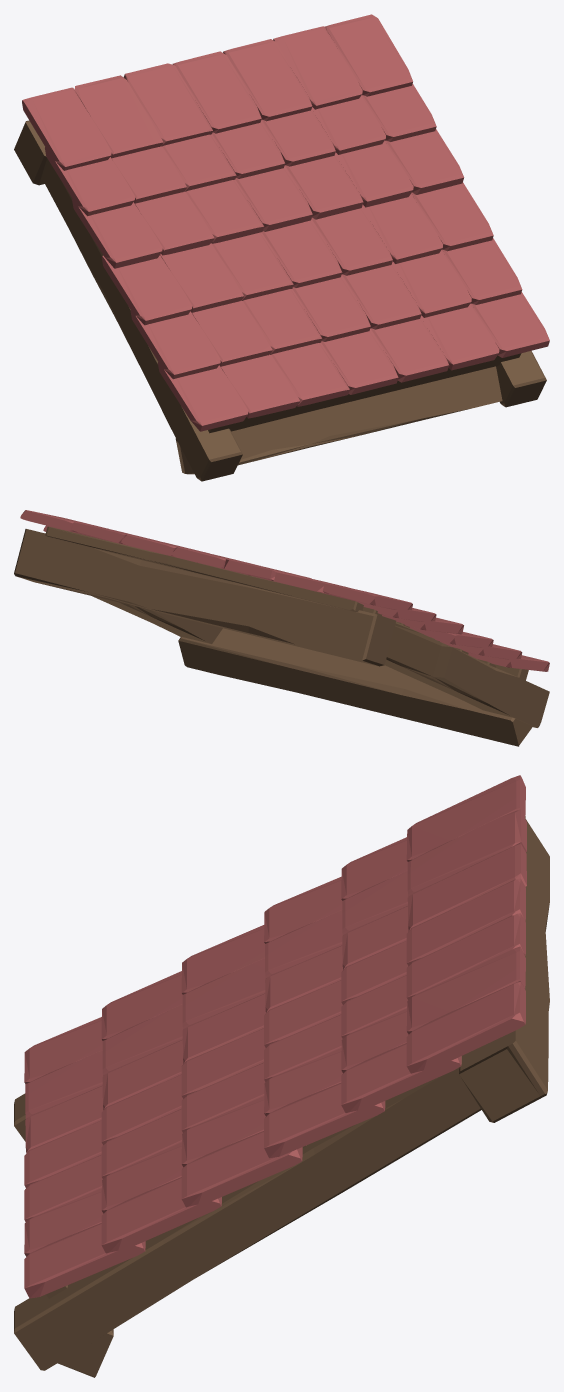
Rendered from PK_Roof_10.fbx.
3 renders of one model, top to bottom at view 1: azimuth 30°, elevation 25°; view 2: azimuth 150°, elevation 25°; view 3: azimuth 270°, elevation 25°, orthographic. The views are drawn at different scales.
Visible parts, largest first — view 1: PK_Roof_10; view 2: PK_Roof_10; view 3: PK_Roof_10.
Boxes of the visible parts, x1,y1,x2,y2 form: PK_Roof_10: [14, 14, 549, 481]; PK_Roof_10: [14, 510, 549, 746]; PK_Roof_10: [14, 775, 549, 1377].
Size of the model in its own units: 230 by 166 by 216.
